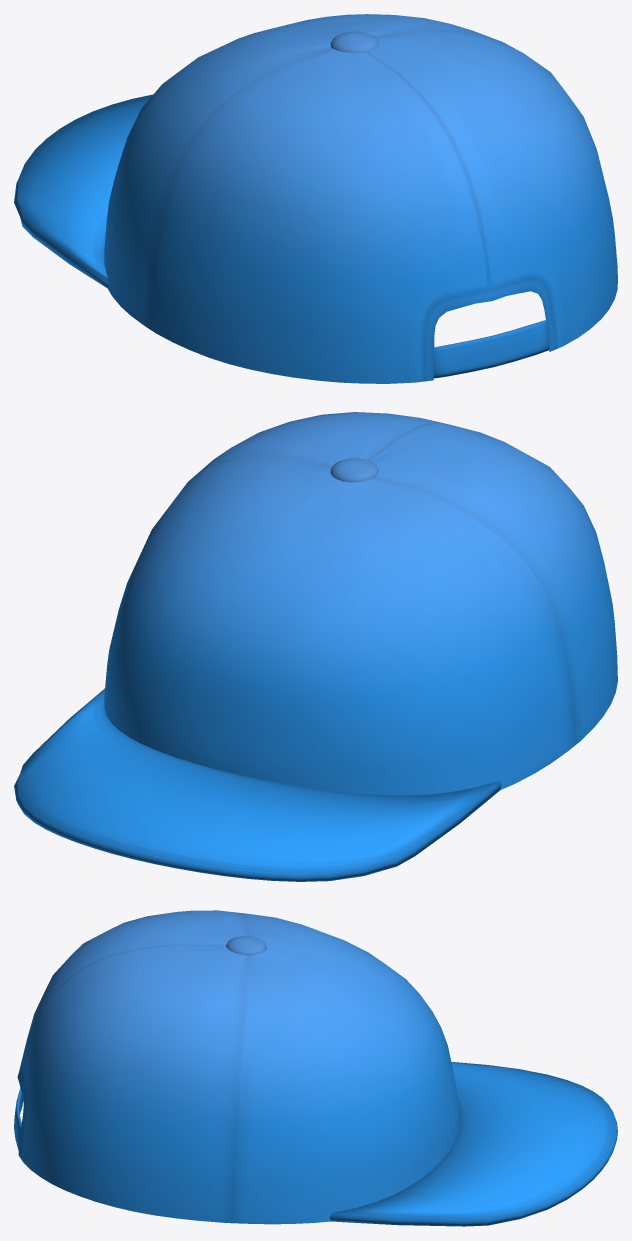
File: Capred Blue.fbx
The picture shows the model from 3 angles, top to bottom: view 1: azimuth 30°, elevation 25°; view 2: azimuth 150°, elevation 25°; view 3: azimuth 270°, elevation 25°; orthographic projection. The views are drawn at different scales.
Parts seen in each view (by area): view 1: Capred Blue; view 2: Capred Blue; view 3: Capred Blue.
Part boxes in pixels (x1=…): Capred Blue: x1=14, y1=14, x2=617, y2=383; Capred Blue: x1=14, y1=412, x2=617, y2=881; Capred Blue: x1=14, y1=910, x2=617, y2=1226.
Size of the model in its own units: 24.49 by 13.75 by 36.16.
